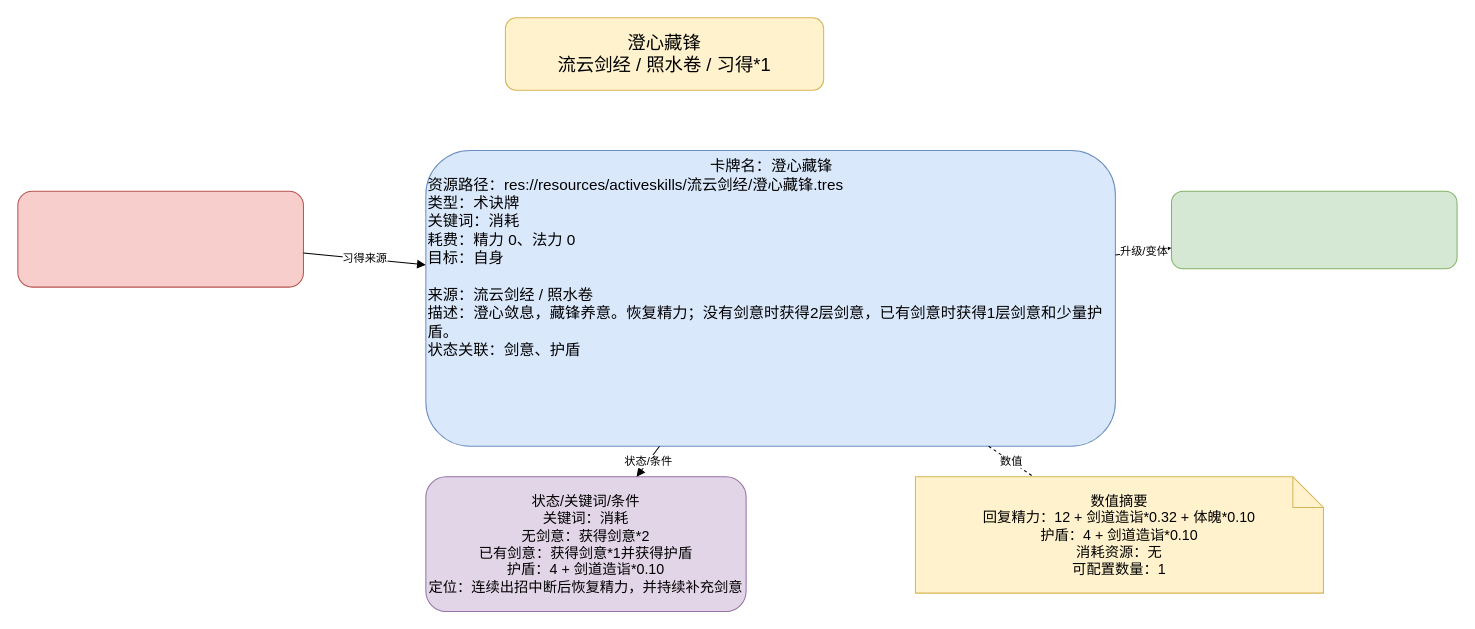
This 1475x629 diagram has some shape labels left out. Here are the shapes that lost their labels. From the top down, the centre of each, then its label:
At (160,238): "习得来源 来源秘籍：流云剑经 来源卷：照水卷 习得数量：1".
At (1313,229): "升级/变体预留 同系：流云剑经 定位：无剑意起手，已有剑意时转为轻防守".
